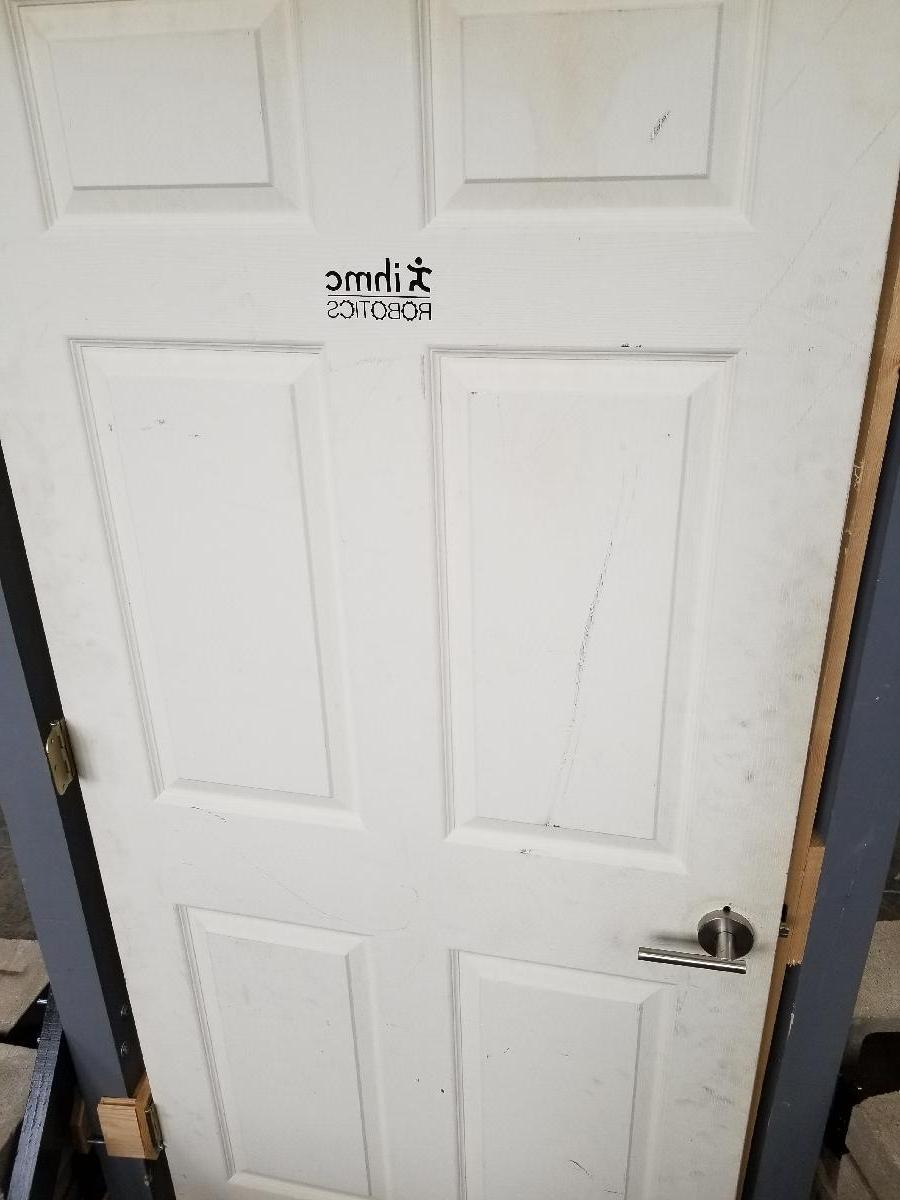door: (47, 0, 854, 1200)
handle: (635, 908, 752, 977)
